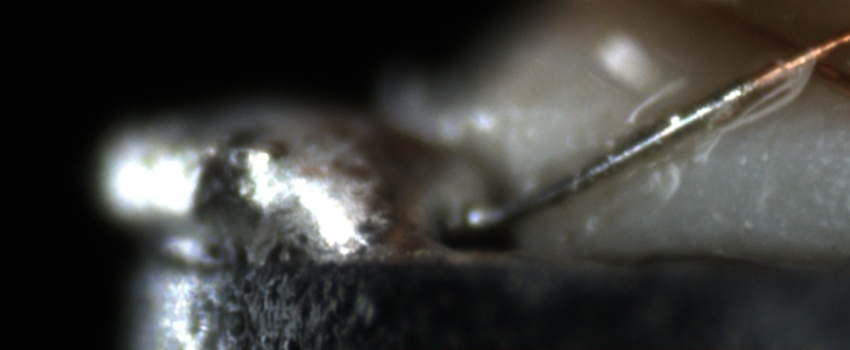CL: (757, 22, 845, 94)
TS: (493, 82, 753, 226)
